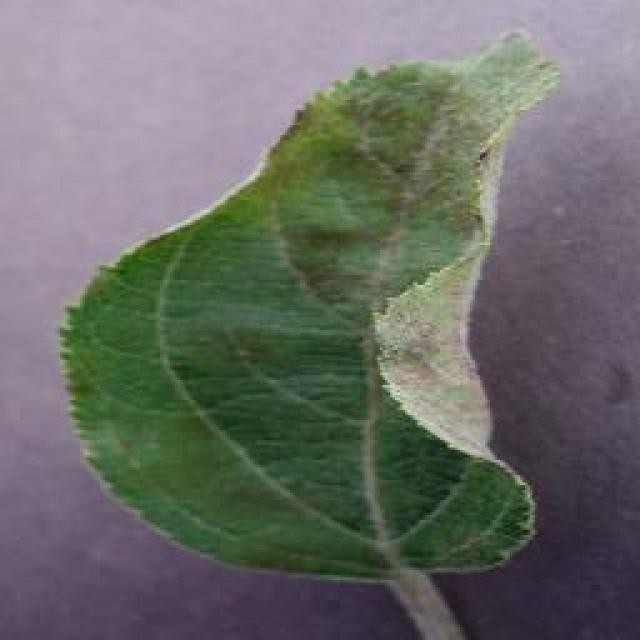apple scab disease: (55, 25, 563, 585)
